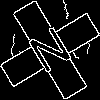N: (25, 25, 80, 83)
